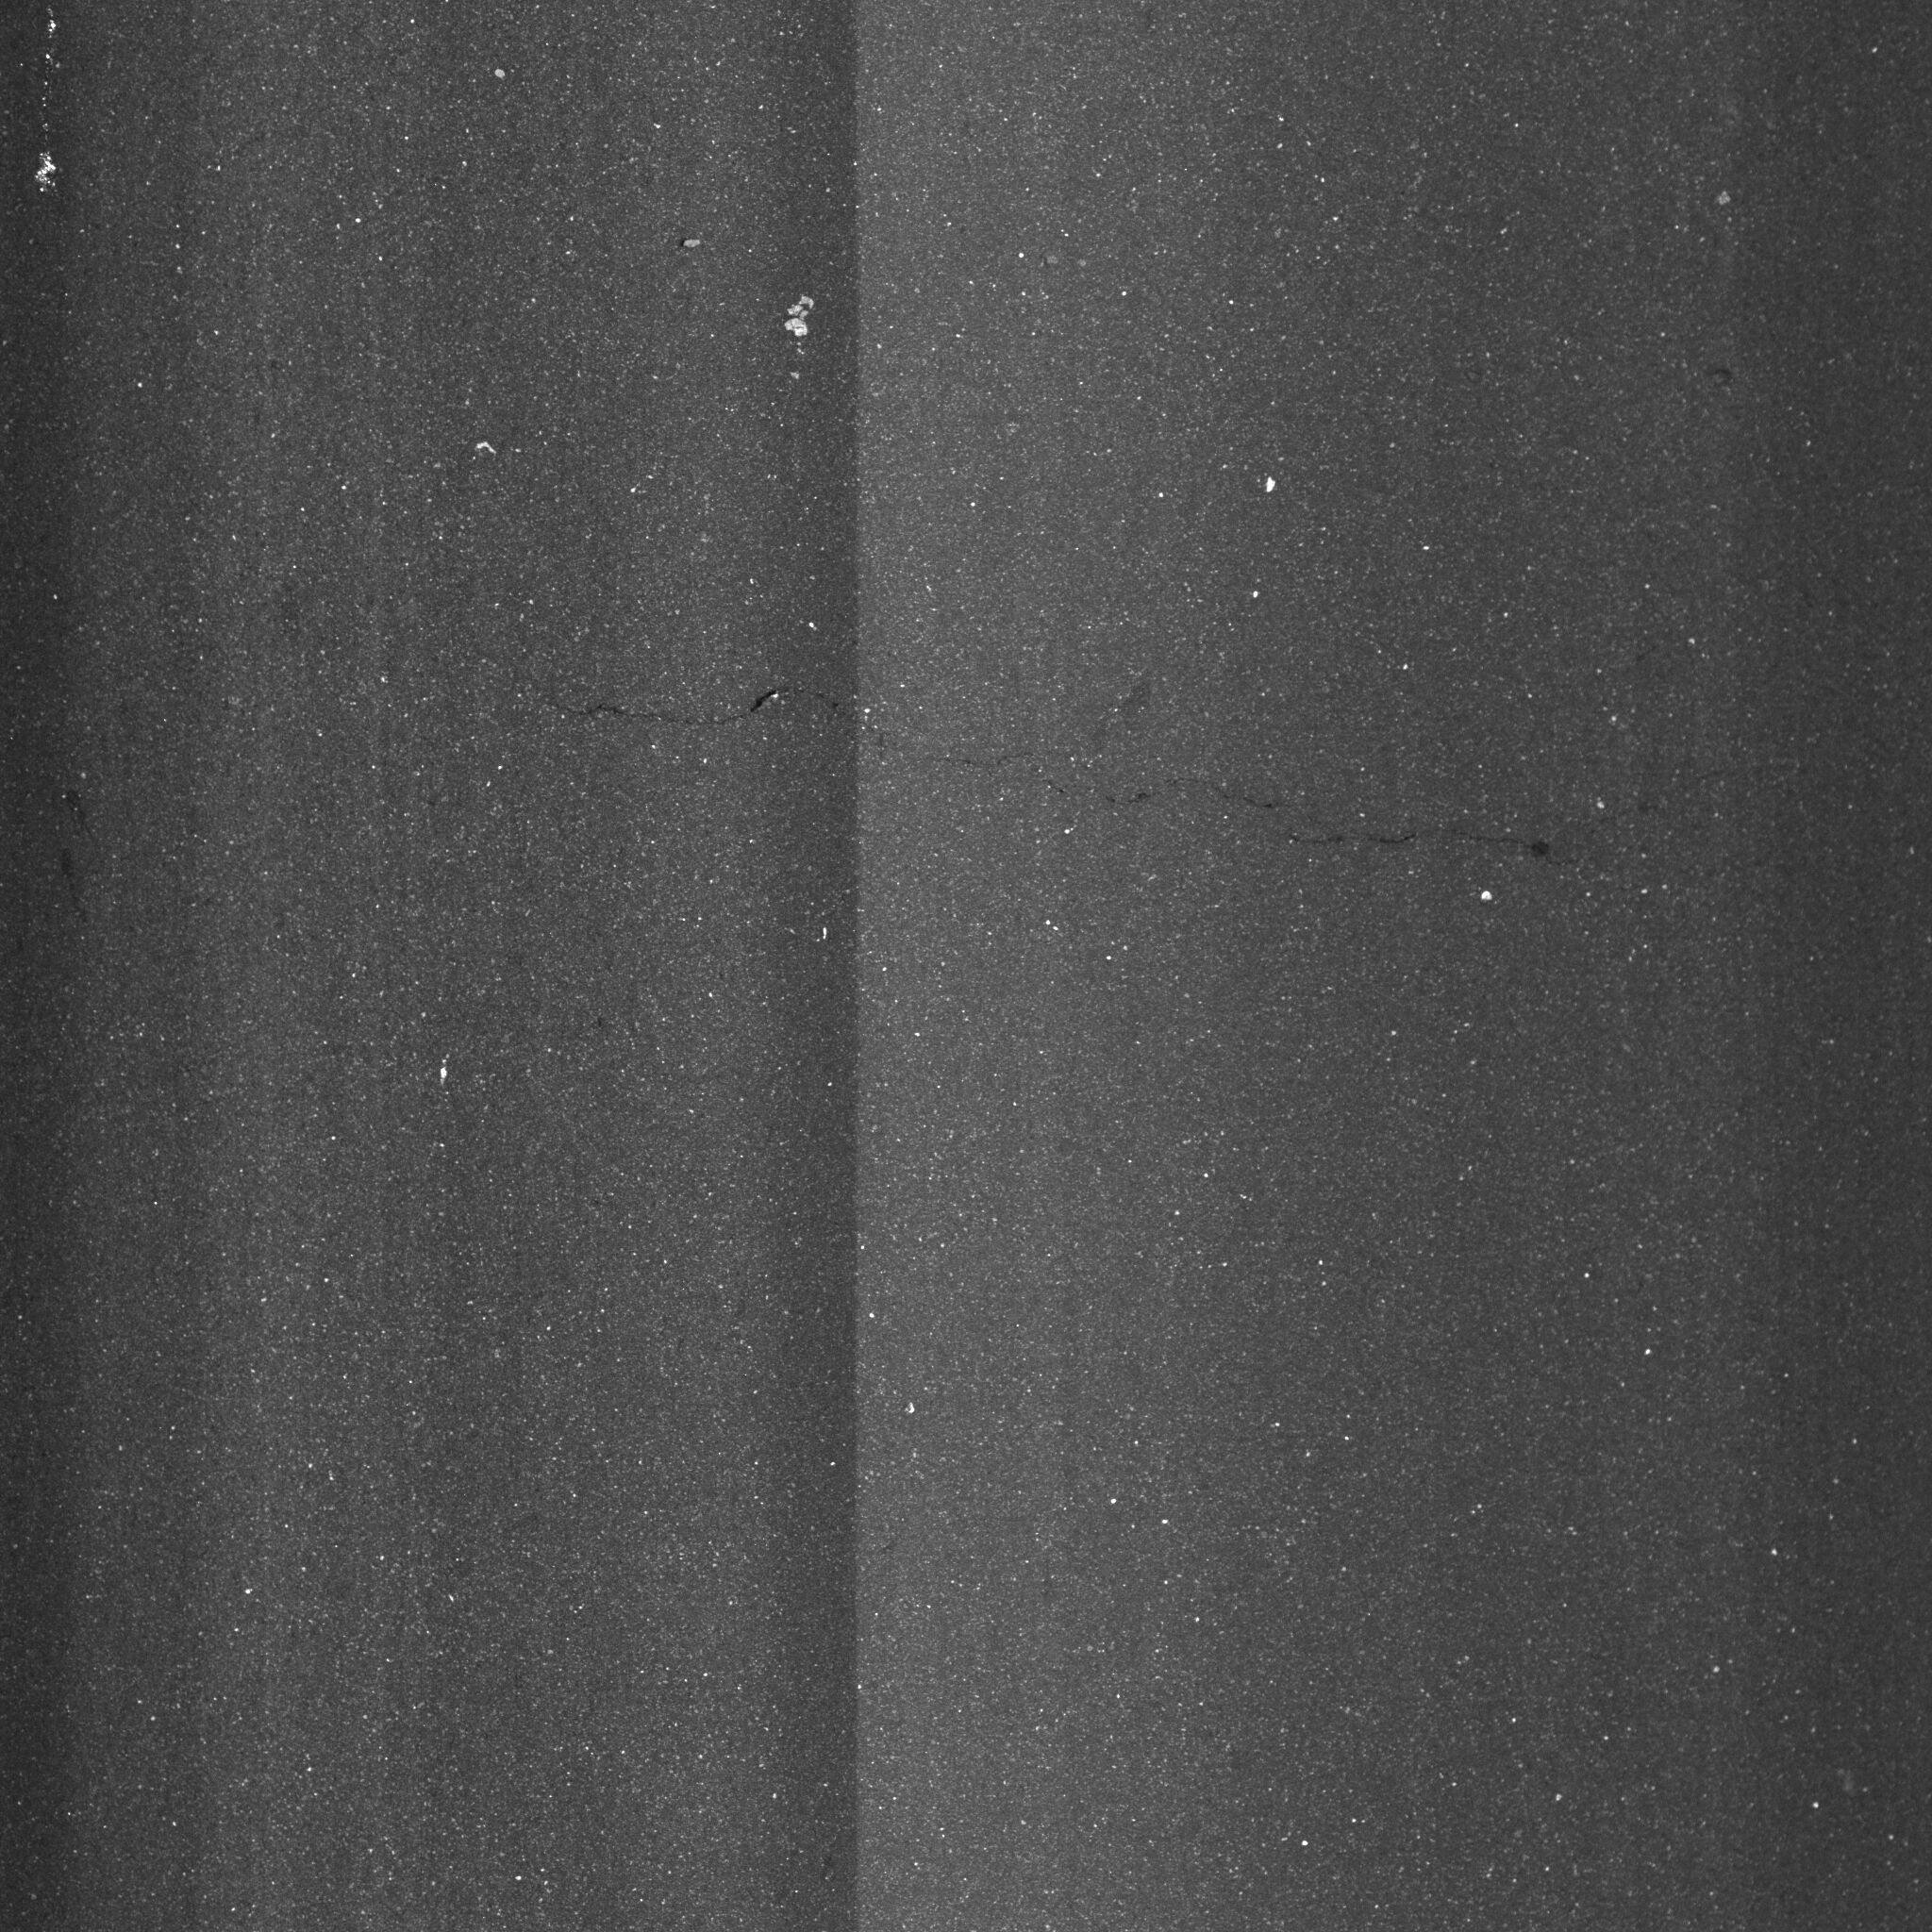transverse: (435, 637, 1575, 886)
